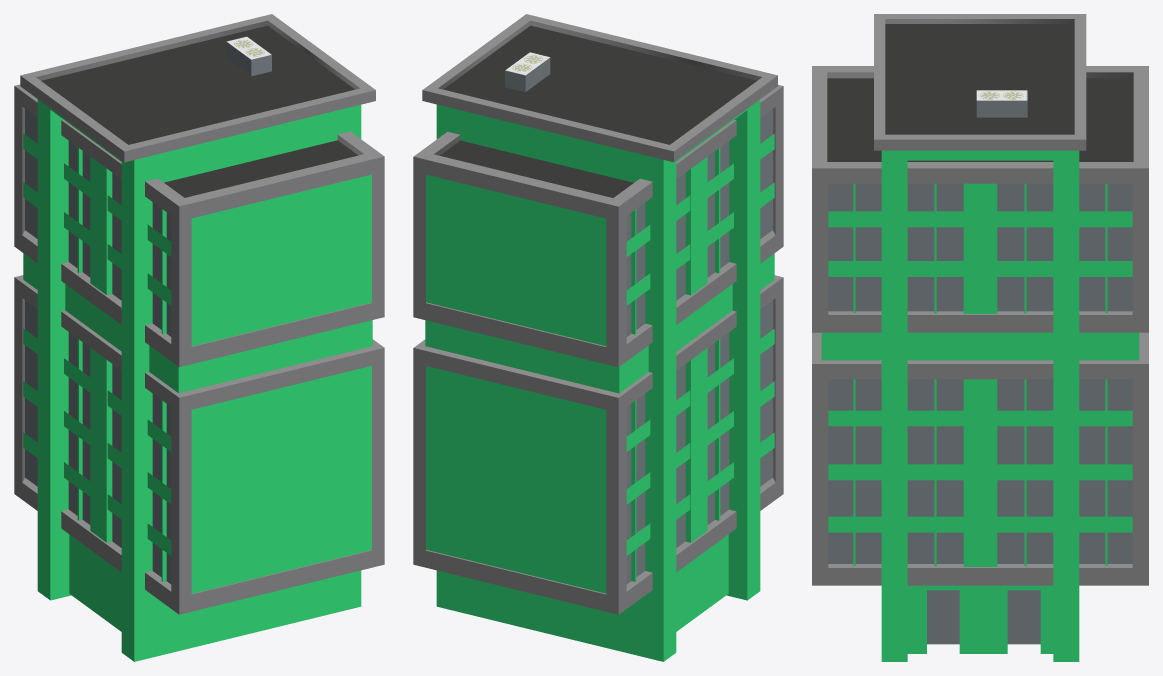
File: putong_xiaoxing06.fbx
3 renders of one model, left to right at view 1: azimuth 30°, elevation 25°; view 2: azimuth 150°, elevation 25°; view 3: azimuth 270°, elevation 25°, orthographic. The views are drawn at different scales.
Visible parts, largest first — view 1: putong_xiaoxing06; view 2: putong_xiaoxing06; view 3: putong_xiaoxing06.
Boxes of the visible parts, x1,y1,x2,y2 form: putong_xiaoxing06: (14,14,384,661); putong_xiaoxing06: (413,14,783,661); putong_xiaoxing06: (812,14,1148,661).
Size of the model in its own units: 4.81 by 5.45 by 9.64.
